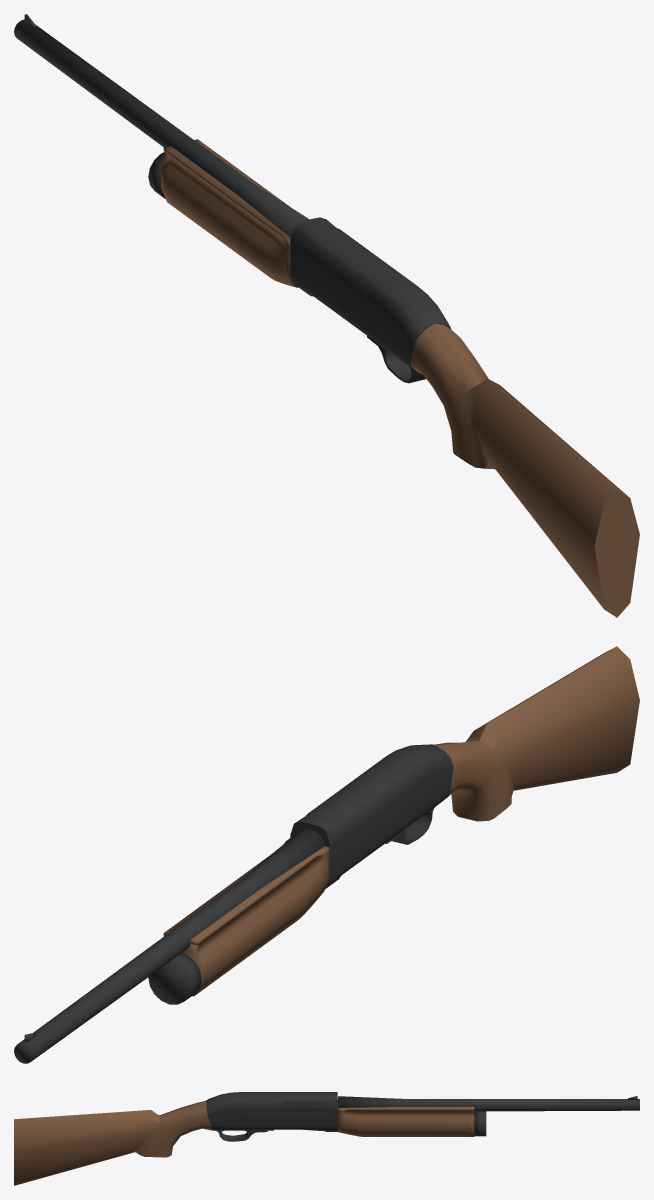
Rendered from vigil_oga.glb.
The picture shows the model from 3 angles, top to bottom: view 1: azimuth 30°, elevation 25°; view 2: azimuth 150°, elevation 25°; view 3: azimuth 270°, elevation 25°; orthographic projection. The views are drawn at different scales.
Visible parts, largest first — view 1: Body; view 2: Body; view 3: Body.
Part boxes in pixels (x1,y1,x2,y2): Body: (14, 14, 639, 617); Body: (14, 646, 639, 1063); Body: (14, 1092, 639, 1185).
Bounding box in the file's own units: 0.0439 × 0.16 × 0.99.
